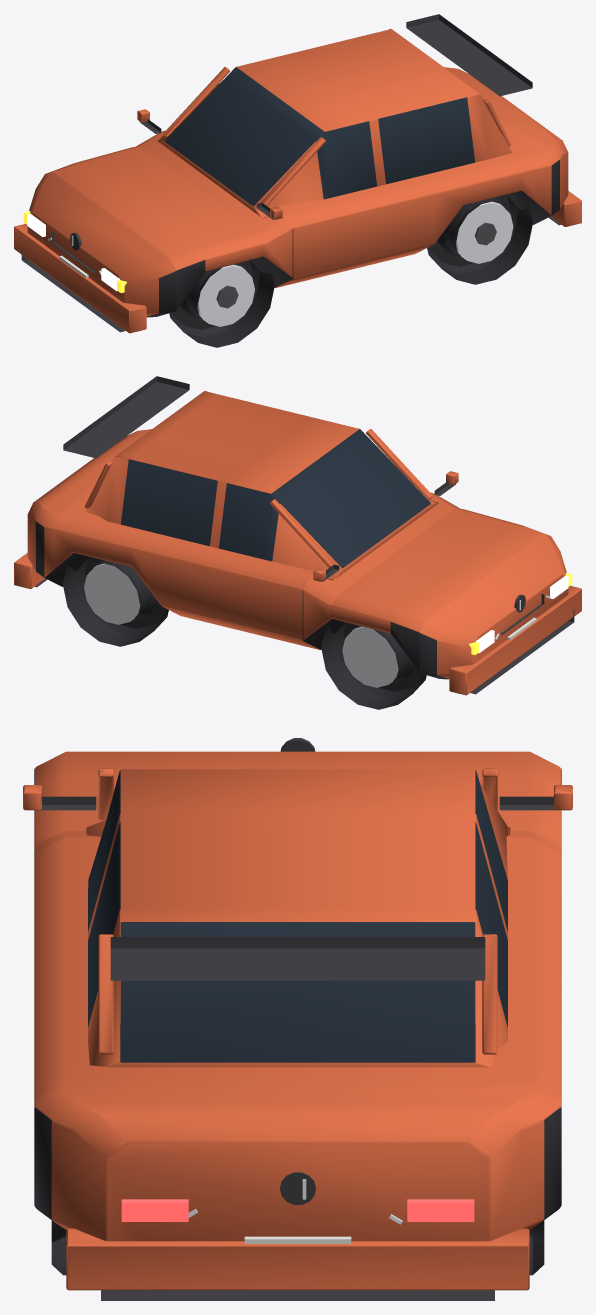
Rendered from car_arrow.glb.
The picture shows the model from 3 angles, top to bottom: view 1: azimuth 30°, elevation 25°; view 2: azimuth 150°, elevation 25°; view 3: azimuth 270°, elevation 25°; orthographic projection. The views are drawn at different scales.
Size of the model in its own units: 1.9 by 0.7058 by 0.996.
